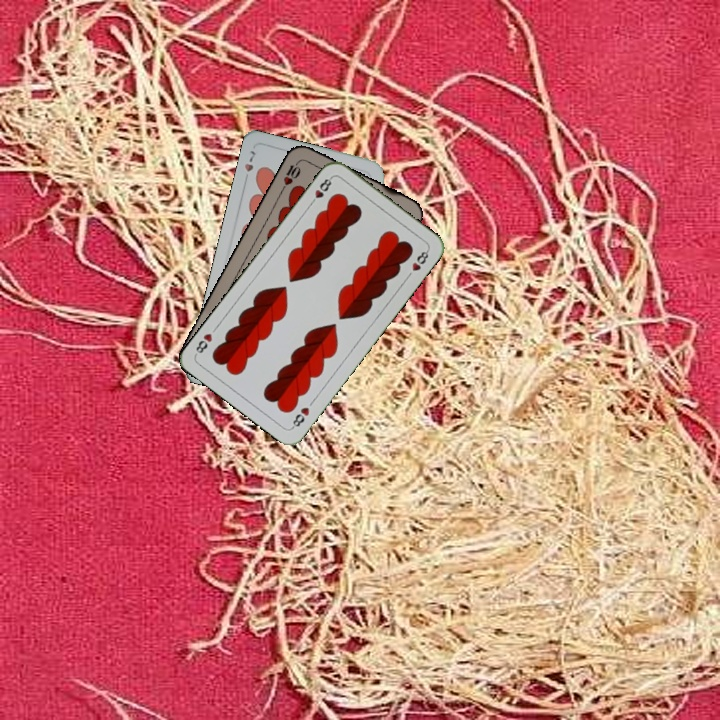H10: (278, 156, 304, 193)
H7: (240, 146, 258, 185)
H8: (306, 173, 335, 208), (287, 403, 312, 431)
